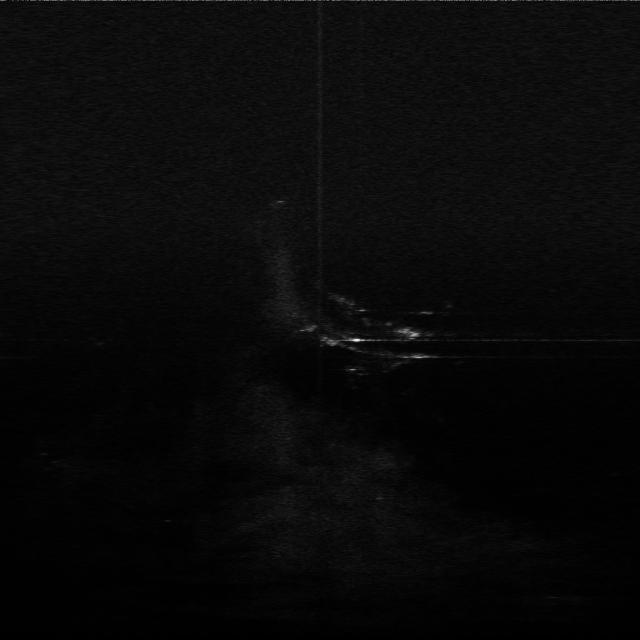rov: (394, 323, 422, 342)
